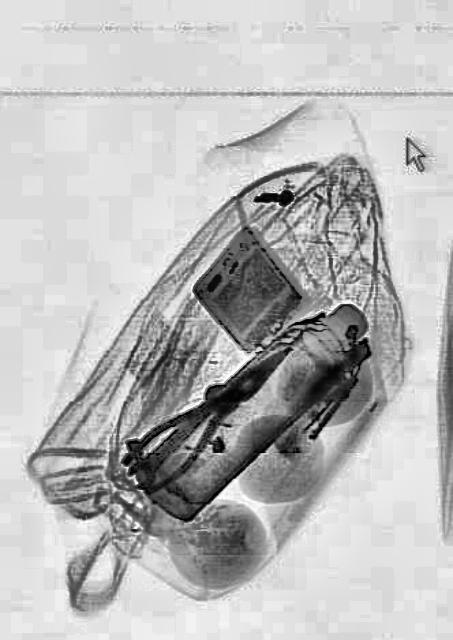Pliers: (120, 320, 302, 502)
Wrench: (122, 374, 232, 494)
